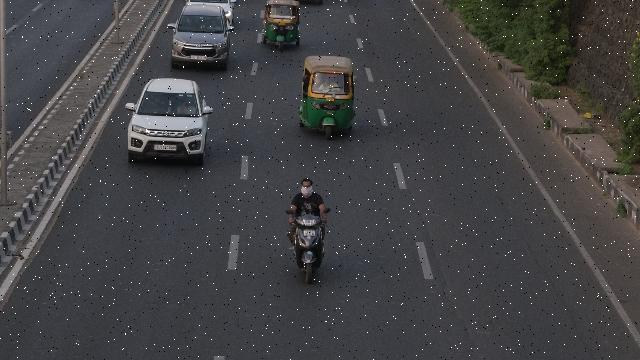Without Helmet: (298, 176, 316, 196)
